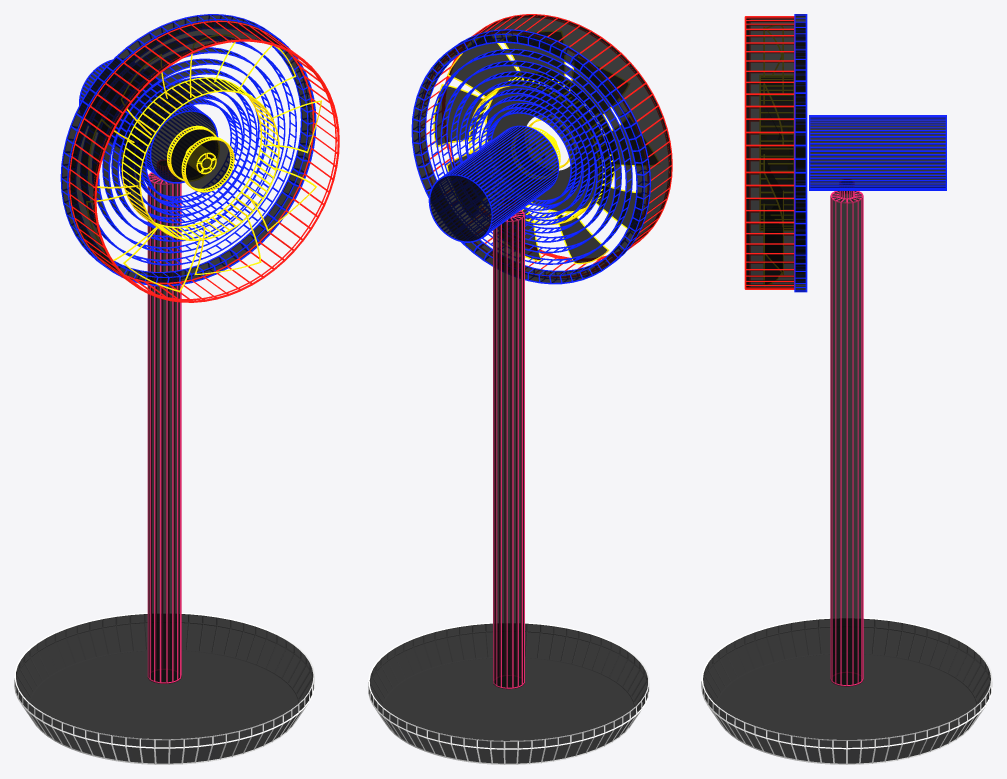
Rendered from fun002.glb.
3 renders of one model, left to right at view 1: azimuth 30°, elevation 25°; view 2: azimuth 150°, elevation 25°; view 3: azimuth 270°, elevation 25°, orthographic. The views are drawn at different scales.
Visible parts, largest first — view 1: face-base, line-circle, face-pole, face-circle, line-pole, face-side, line-side, line-panel, face-panel.001, line-base, fave-body, line^panel (+2 smaller); view 2: face-base, line-circle, face-circle, face-pole, face-panel, line-pole, fave-body, face-side, line-body, line-base, face-front01, line-side (+4 smaller); view 3: face-base, face-pole, face-side, line-pole, line-body, fave-body, line-base, line-side, face-circle, line-circle, face-panel.001, face-panel (+1 smaller).
Part boxes in pixels (bbox=[...]): face-base: bbox=[15, 614, 313, 763]; line-circle: bbox=[60, 14, 316, 286]; face-pole: bbox=[148, 161, 179, 682]; face-circle: bbox=[62, 15, 314, 284]; line-pole: bbox=[147, 160, 181, 683]; face-side: bbox=[70, 22, 287, 275]; line-side: bbox=[69, 20, 339, 302]; line-panel: bbox=[121, 77, 279, 240]; face-panel.001: bbox=[123, 78, 244, 221]; line-base: bbox=[14, 612, 314, 764]; fave-body: bbox=[80, 60, 216, 181]; line^panel: bbox=[86, 35, 321, 292]; face-base: bbox=[369, 623, 648, 763]; line-circle: bbox=[411, 29, 650, 284]; face-circle: bbox=[413, 30, 649, 282]; face-pole: bbox=[494, 200, 523, 687]; face-panel: bbox=[434, 32, 656, 262]; line-pole: bbox=[493, 199, 524, 688]; fave-body: bbox=[430, 126, 557, 241]; face-side: bbox=[475, 15, 671, 247]; line-body: bbox=[428, 125, 559, 242]; line-base: bbox=[368, 622, 649, 764]; face-front01: bbox=[486, 78, 613, 211]; line-side: bbox=[420, 14, 672, 277]; face-base: bbox=[703, 619, 990, 763]; face-pole: bbox=[831, 191, 862, 684]; face-side: bbox=[746, 17, 793, 288]; line-pole: bbox=[830, 179, 863, 685]; line-body: bbox=[809, 115, 946, 190]; fave-body: bbox=[810, 117, 945, 187]; line-base: bbox=[701, 617, 992, 764]; line-side: bbox=[744, 16, 794, 289]; face-circle: bbox=[795, 14, 805, 291]; line-circle: bbox=[794, 14, 807, 292]; face-panel.001: bbox=[761, 78, 792, 227]; face-panel: bbox=[765, 135, 782, 283].
Size of the model in its own units: 0.3485 by 0.9011 by 0.3485.
